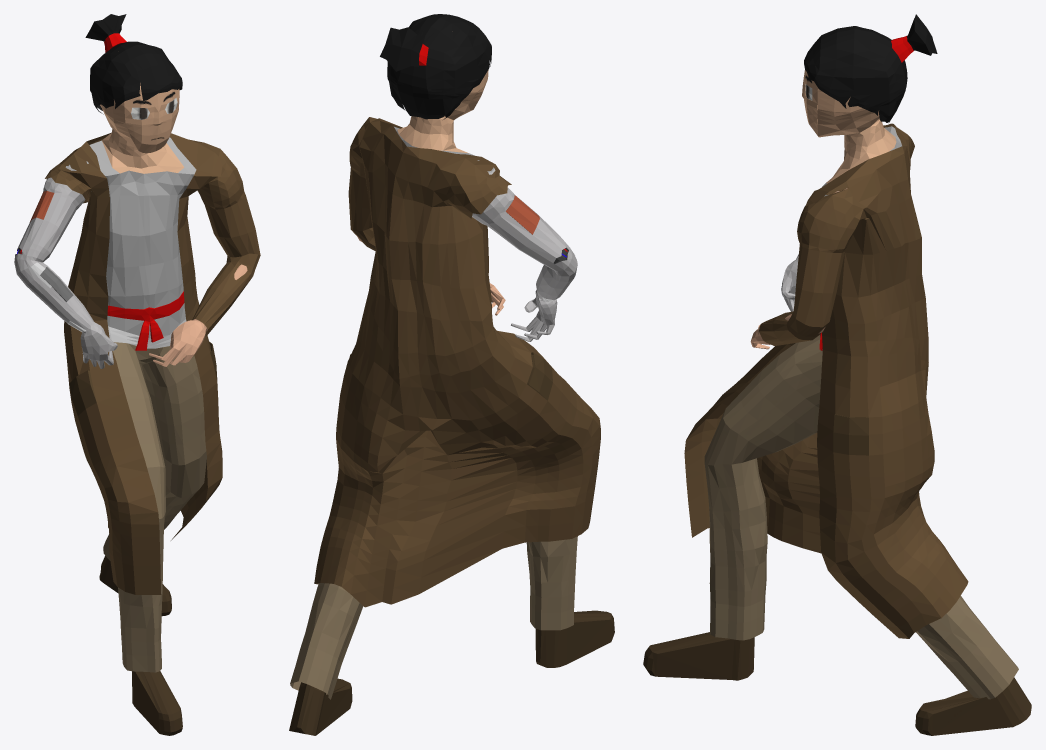
File: One_Bash_000011.obj
The picture shows the model from 3 angles, left to right: view 1: azimuth 30°, elevation 25°; view 2: azimuth 150°, elevation 25°; view 3: azimuth 270°, elevation 25°; orthographic projection. The views are drawn at different scales.
Visible parts, largest first — view 1: Hair_Cube.004; view 2: Hair_Cube.004; view 3: Hair_Cube.004.
Part boxes in pixels (<box>): Hair_Cube.004: <box>14,14,260,735</box>; Hair_Cube.004: <box>289,14,614,735</box>; Hair_Cube.004: <box>643,14,1031,735</box>.
Bounding box in the file's own units: 1.38 × 3.71 × 1.91.
